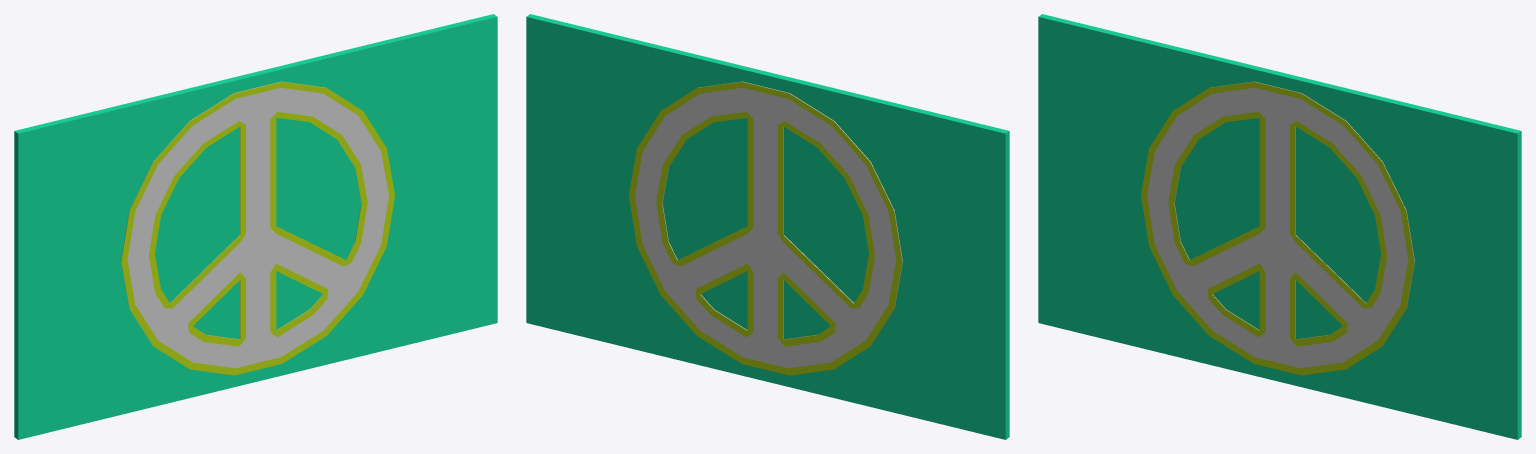
The model's file is flag2.fbx.
The picture shows the model from 3 angles, left to right: view 1: azimuth 30°, elevation 25°; view 2: azimuth 150°, elevation 25°; view 3: azimuth 330°, elevation 25°; orthographic projection.
Visible parts, largest first — view 1: flag; view 2: flag; view 3: flag.
Boxes of the visible parts, box(x1,y1,x2,y2) form: flag: box(14, 14, 497, 439); flag: box(526, 14, 1009, 439); flag: box(1038, 14, 1521, 439).
Size of the model in its own units: 1.1 by 0.6717 by 0.0184.
